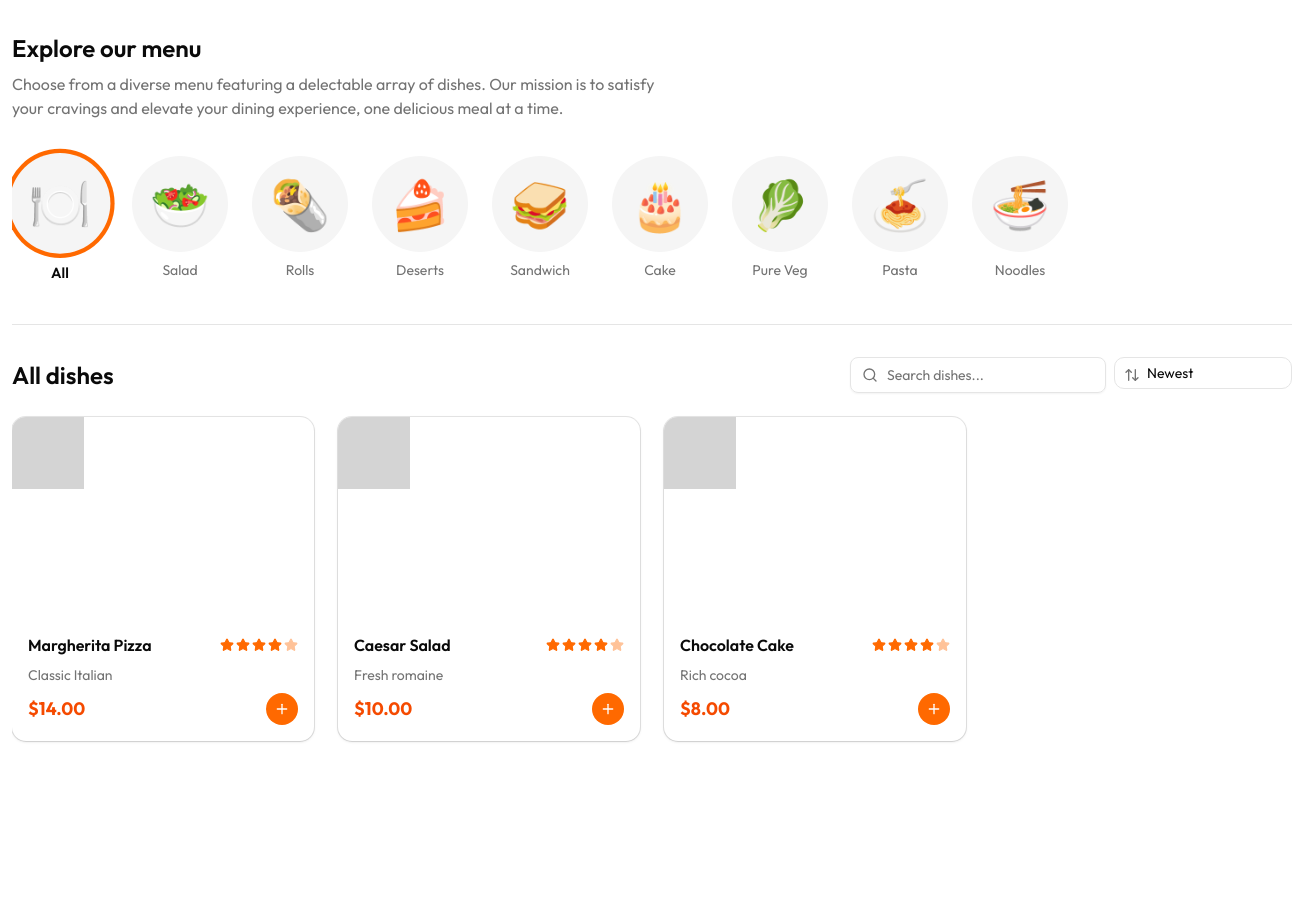
Test: FoodSection › filters foods by category via server query
The width and height of the screenshot is (1304, 900).
Click the text "Salad". click: [180, 270]
box: [162, 260, 198, 280]
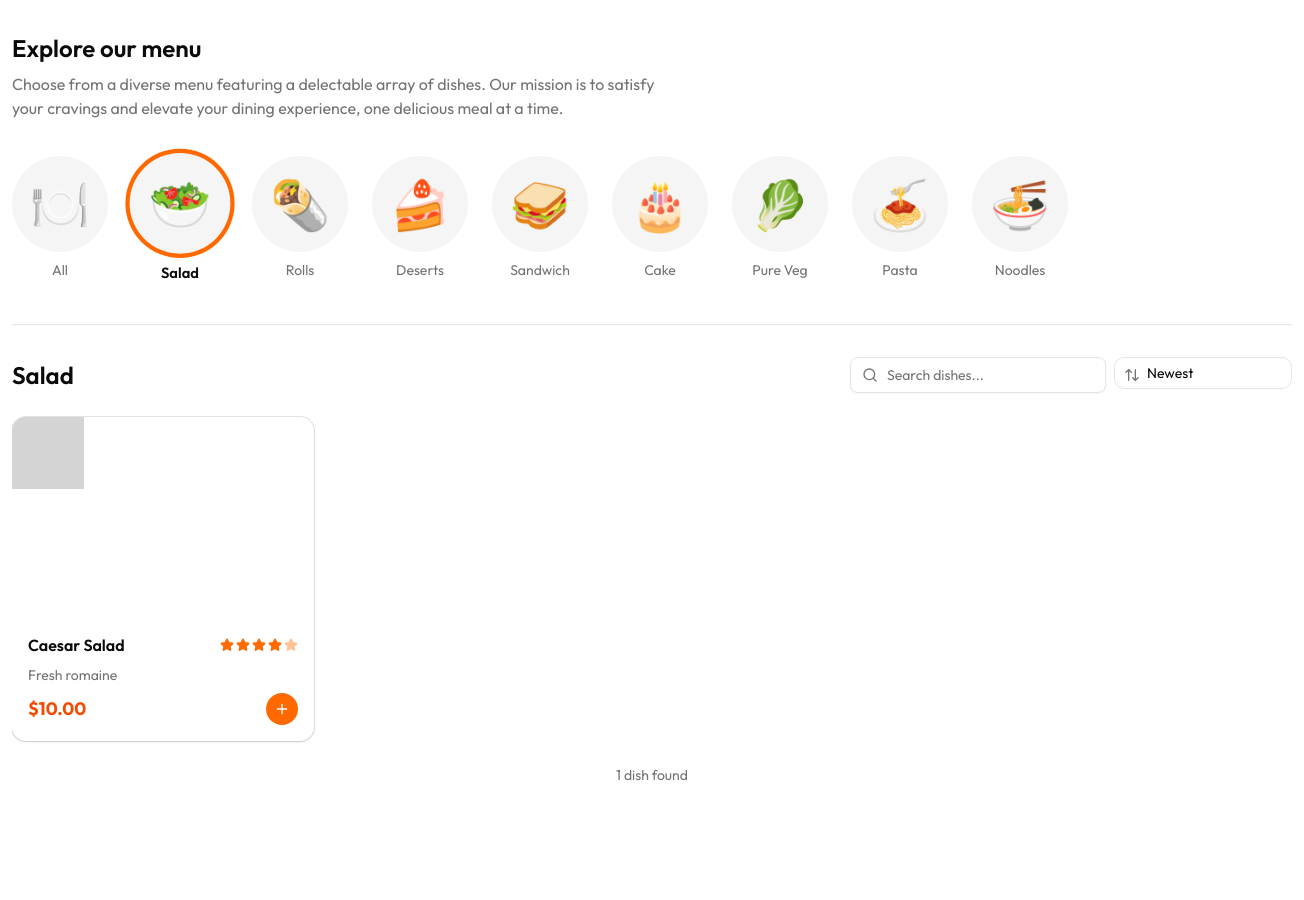
Expected: the heading "Caesar Salad" is shown, [28, 633, 125, 657]
Expected: the heading "Margherita Pizza" is gone
